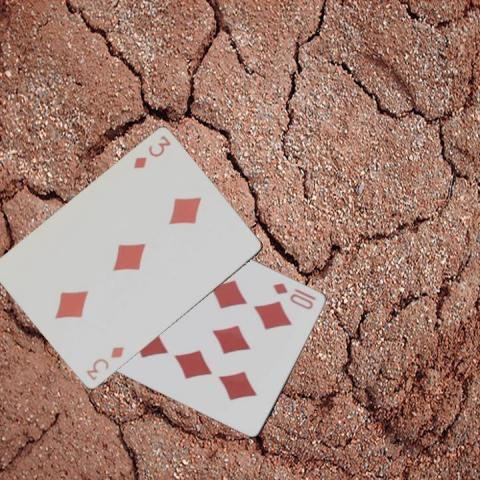10d: (270, 280, 315, 311)
3d: (83, 344, 125, 382), (131, 132, 172, 170)
